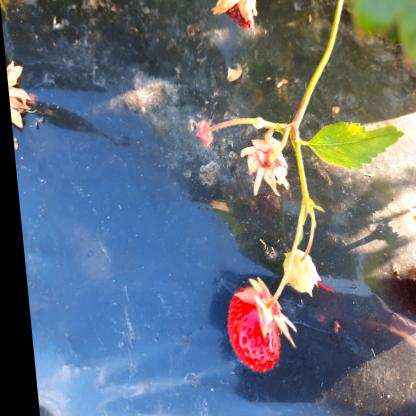ripe: (219, 283, 280, 375), (402, 239, 416, 320)
unripe: (274, 248, 318, 298)
